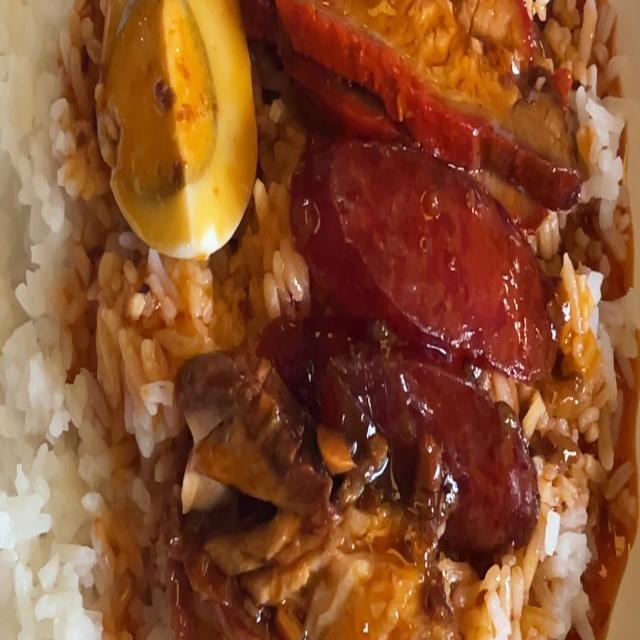01boiled_egg: (116, 0, 252, 236)
01chainese_sausage: (307, 161, 532, 475)
01crispy_pork: (190, 374, 299, 615), (268, 515, 471, 640)
01red_pork: (280, 0, 562, 171)
01red_pork_and_crispy_pork: (0, 0, 640, 640)
01rice: (6, 254, 175, 640), (0, 0, 90, 279)
